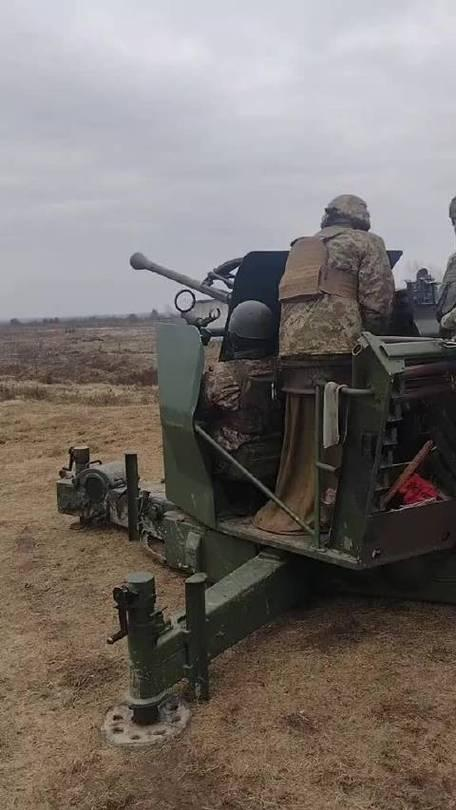MIL_SPG: (57, 196, 456, 744)
